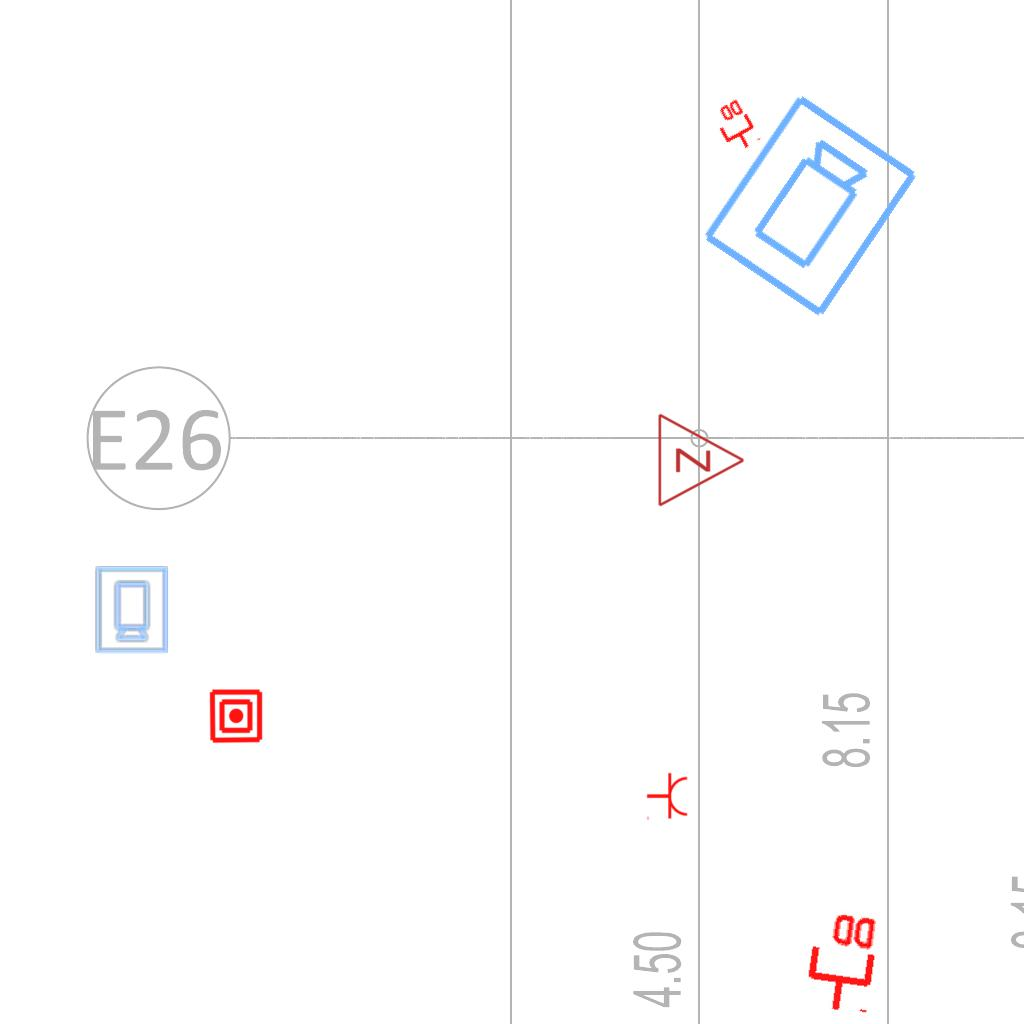Datenanschluss_zweifach: (799, 905, 882, 1018), (707, 95, 763, 158)
KFO_Kamera_mit_Festobjektiv: (696, 88, 926, 326), (93, 564, 170, 655)
NAM-Nichtautomatischer_Melder: (208, 688, 264, 744)
Schukosteckdose_einfach: (646, 772, 689, 822)
Zimmersignalleuchte: (651, 410, 751, 508)
